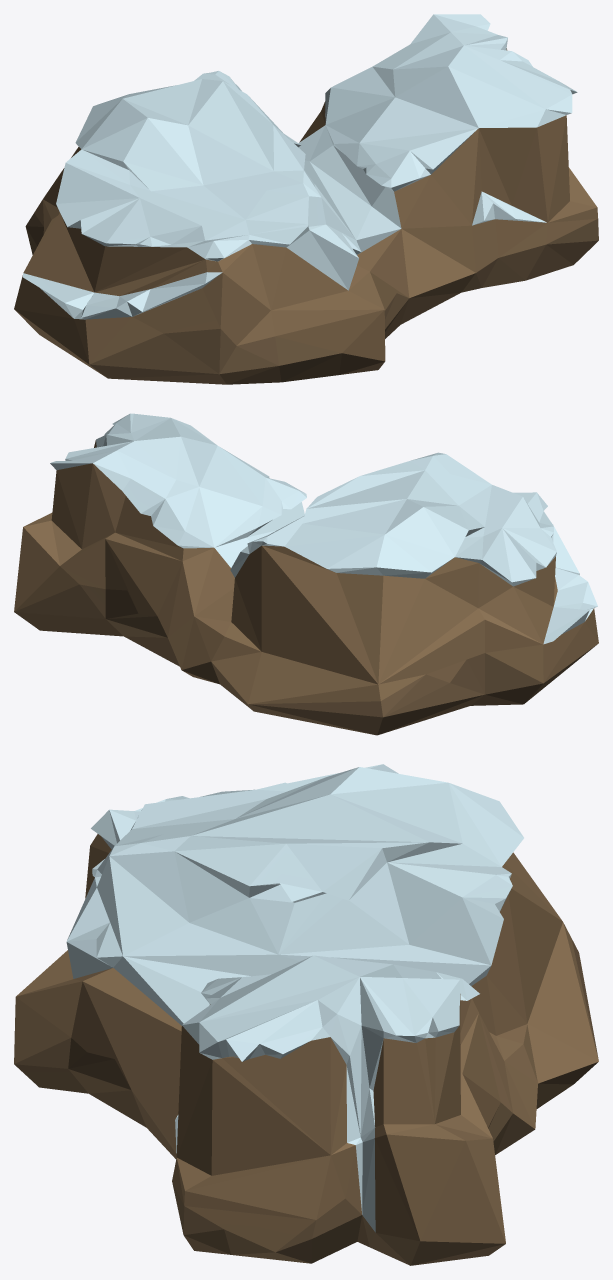
The model's file is SM_Env_Rock_05_Snow.gltf.
3 renders of one model, top to bottom at view 1: azimuth 30°, elevation 25°; view 2: azimuth 150°, elevation 25°; view 3: azimuth 270°, elevation 25°, orthographic. The views are drawn at different scales.
Visible parts, largest first — view 1: SM_Env_Rock_05_Snow; view 2: SM_Env_Rock_05_Snow; view 3: SM_Env_Rock_05_Snow.
Part boxes in pixels (left/top/right/bottom): SM_Env_Rock_05_Snow: left=14, top=14, right=598, bottom=384; SM_Env_Rock_05_Snow: left=14, top=413, right=598, bottom=735; SM_Env_Rock_05_Snow: left=14, top=764, right=598, bottom=1265.
Size of the model in its own units: 2.94 by 0.9806 by 2.08.
1 material, 1 textured.
